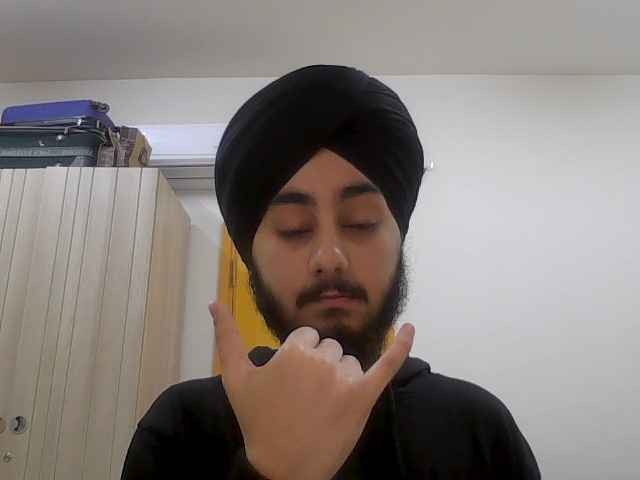Wrong: (205, 301, 422, 480)
